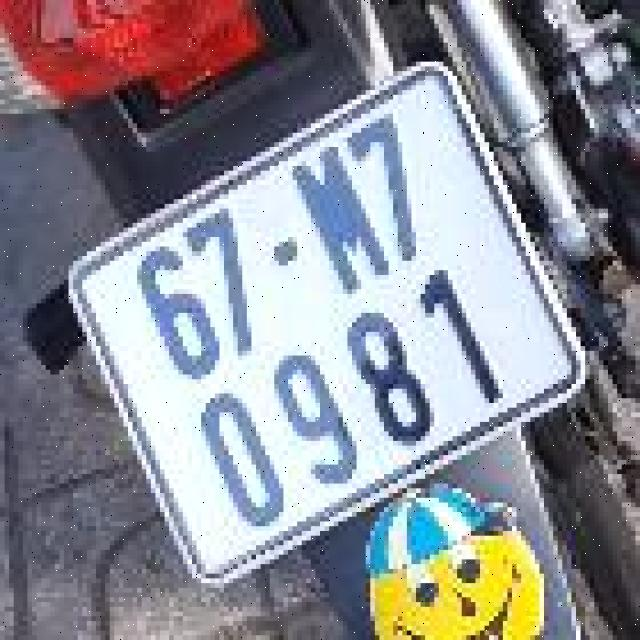0: (168, 370, 300, 552)
1: (414, 265, 509, 417)
6: (117, 241, 234, 408)
7: (337, 94, 448, 281), (180, 196, 289, 374)
8: (331, 297, 466, 464)
9: (249, 342, 368, 506)
M: (289, 142, 407, 317)
